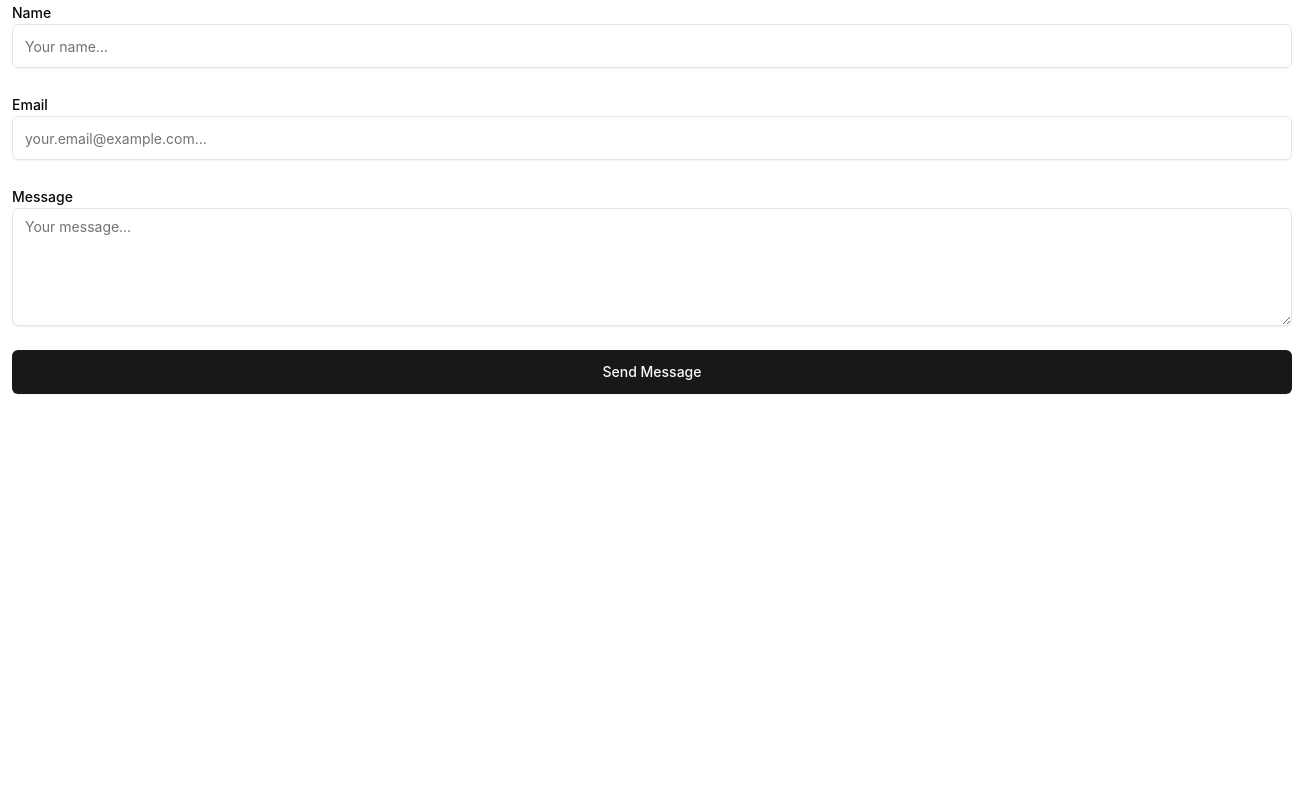
ContactForm › maps validation errors from a 400 response onto fields
In the field labelled "Name": (652, 46) 12,24 -> 1292,68, type "John Doe"
Press Tab
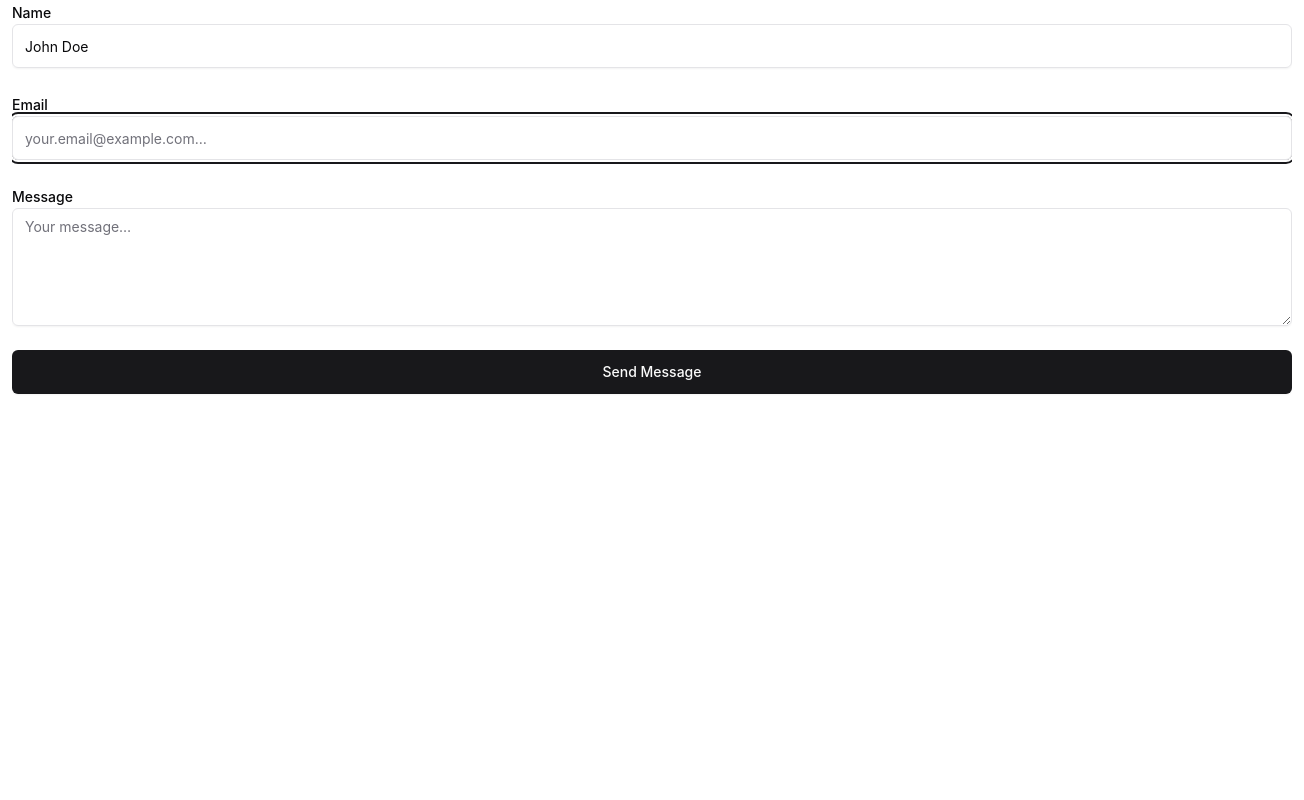
In the field labelled "Email": (652, 138) 12,116 -> 1292,160, type "john@example.com"
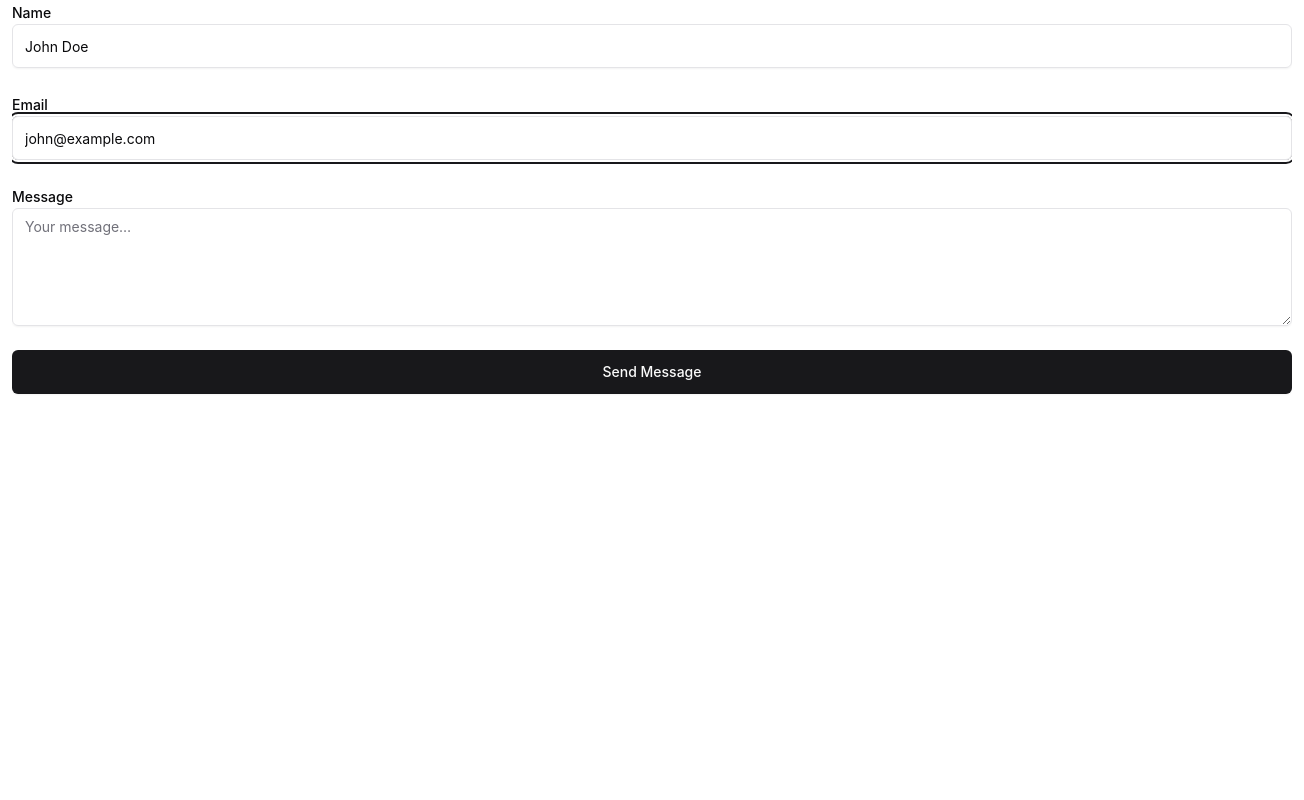
Press Tab
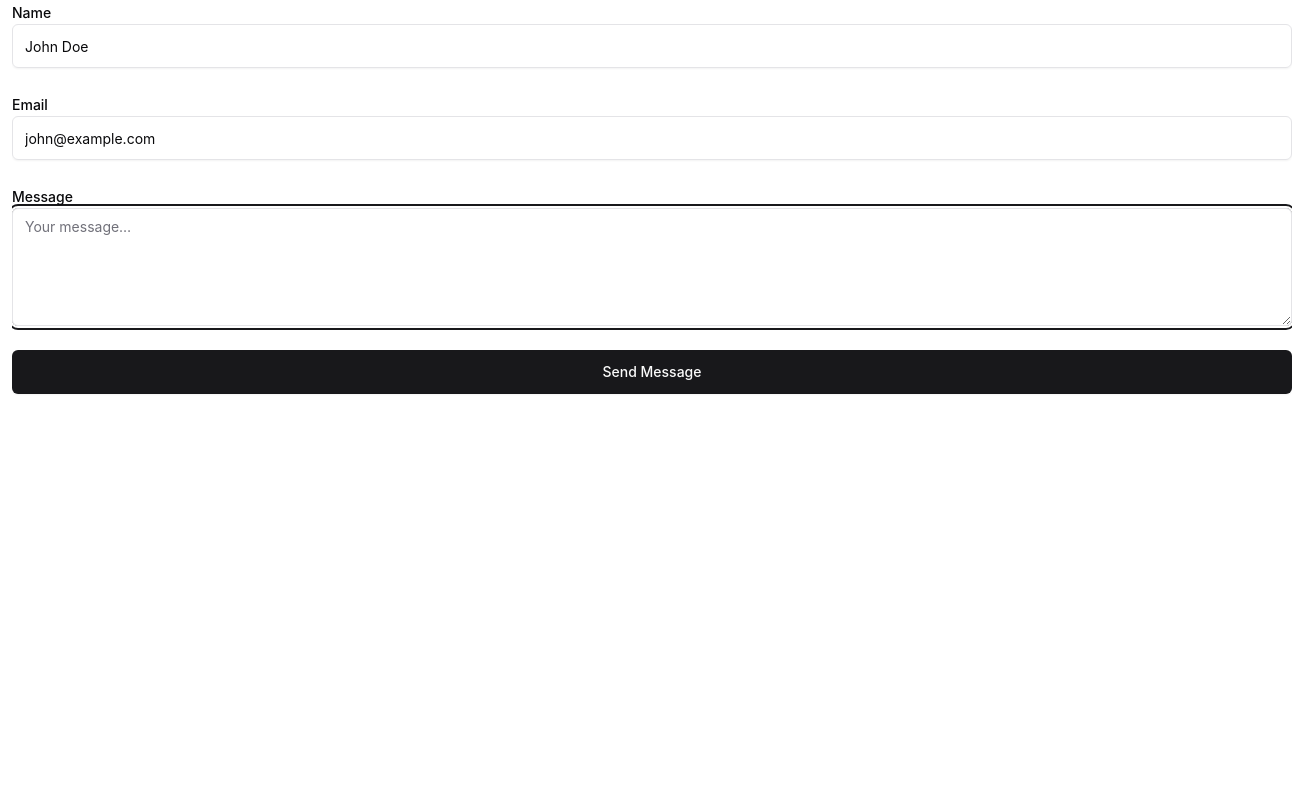
In the text box labelled "Message": (652, 267) 12,208 -> 1292,326, type "This is a test message that is long enough for validation."
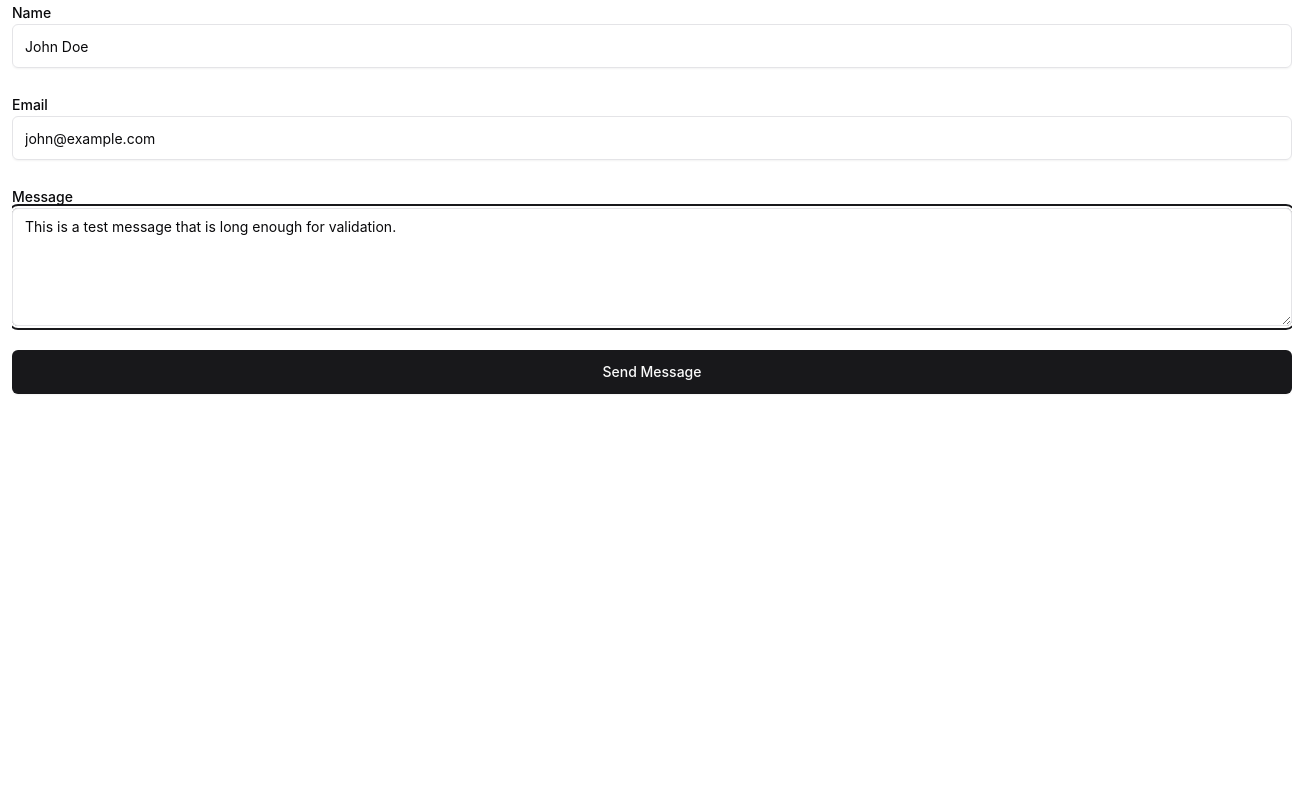
Press Tab
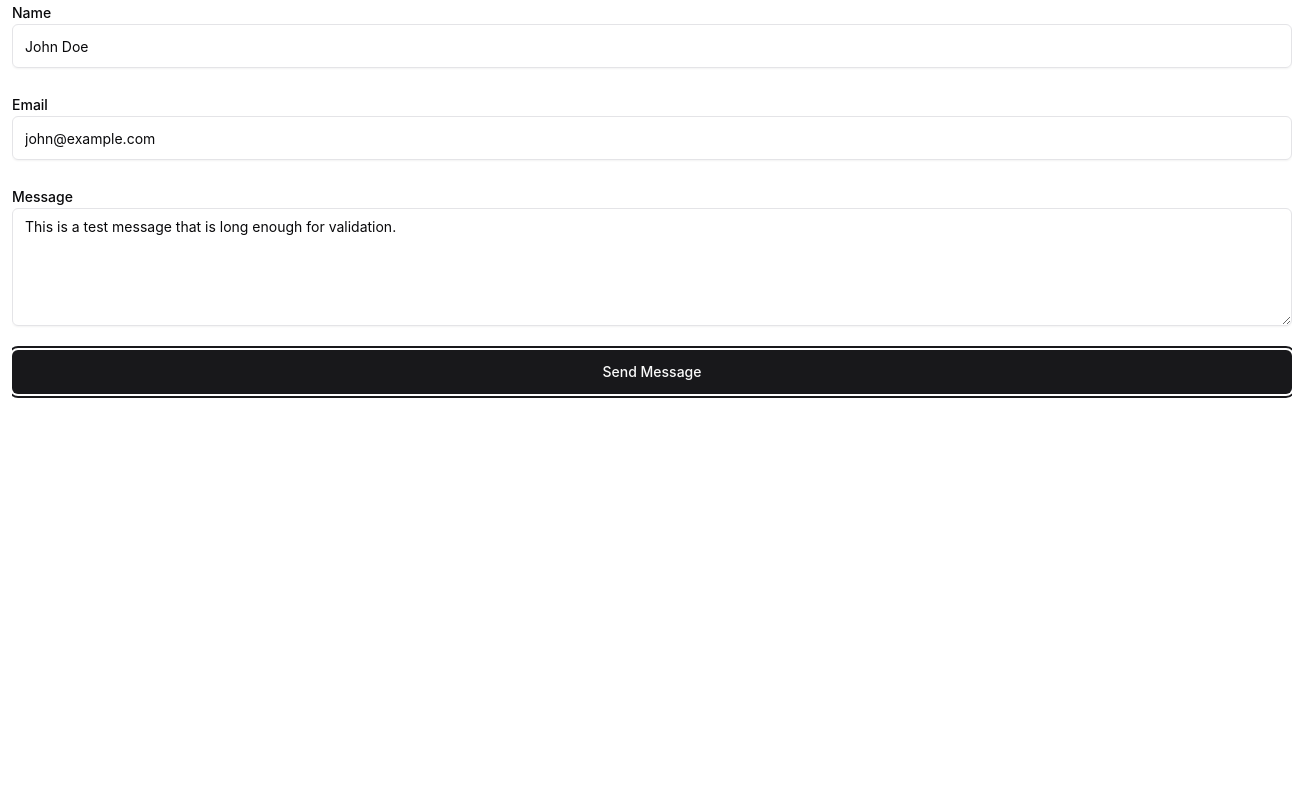
Click the button "Send Message": (652, 372) 12,350 -> 1292,394
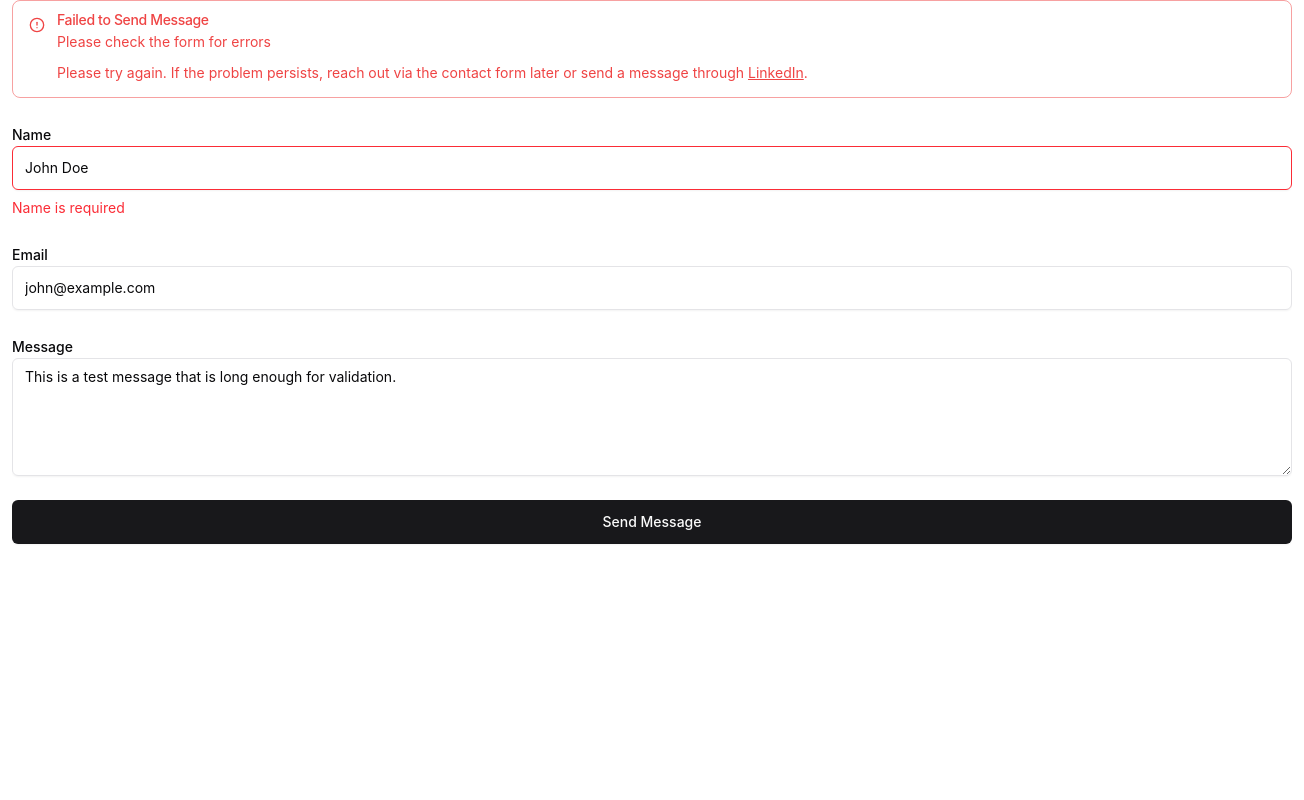
Now the text "Name is required" is shown, box 12,198 -> 125,216
